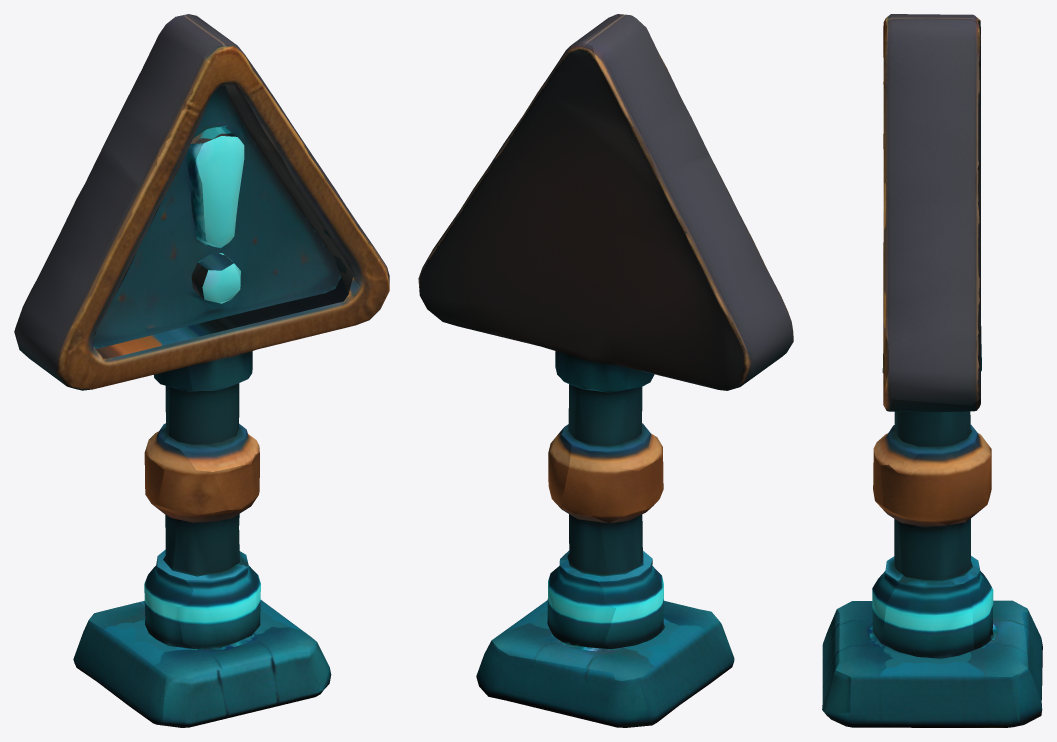
Rendered from Obs5.fbx.
3 renders of one model, left to right at view 1: azimuth 30°, elevation 25°; view 2: azimuth 150°, elevation 25°; view 3: azimuth 270°, elevation 25°, orthographic. The views are drawn at different scales.
Visible parts, largest first — view 1: tmp4pxdi38f.ply; view 2: tmp4pxdi38f.ply; view 3: tmp4pxdi38f.ply.
Part boxes in pixels (<box>): tmp4pxdi38f.ply: <box>14,14,389,727</box>; tmp4pxdi38f.ply: <box>418,14,793,727</box>; tmp4pxdi38f.ply: <box>822,14,1042,727</box>.
Size of the model in its own units: 108 by 199 by 59.62.
Materials: 1 (1 with a texture image).
